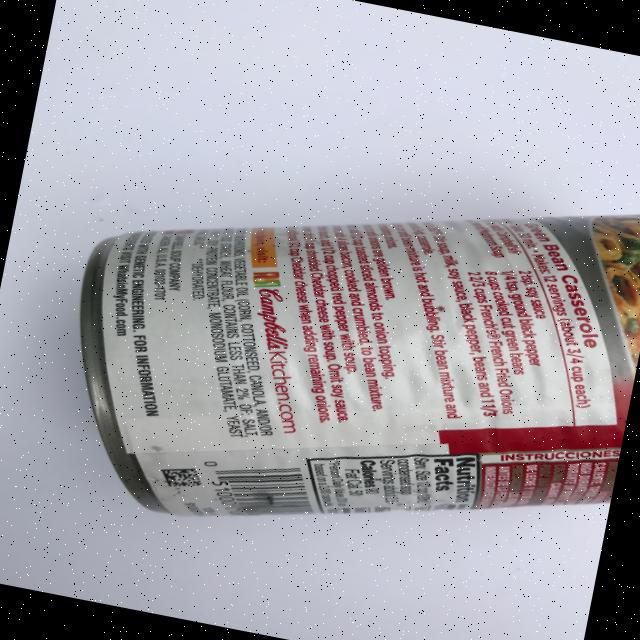metal: (41, 104, 640, 597)
